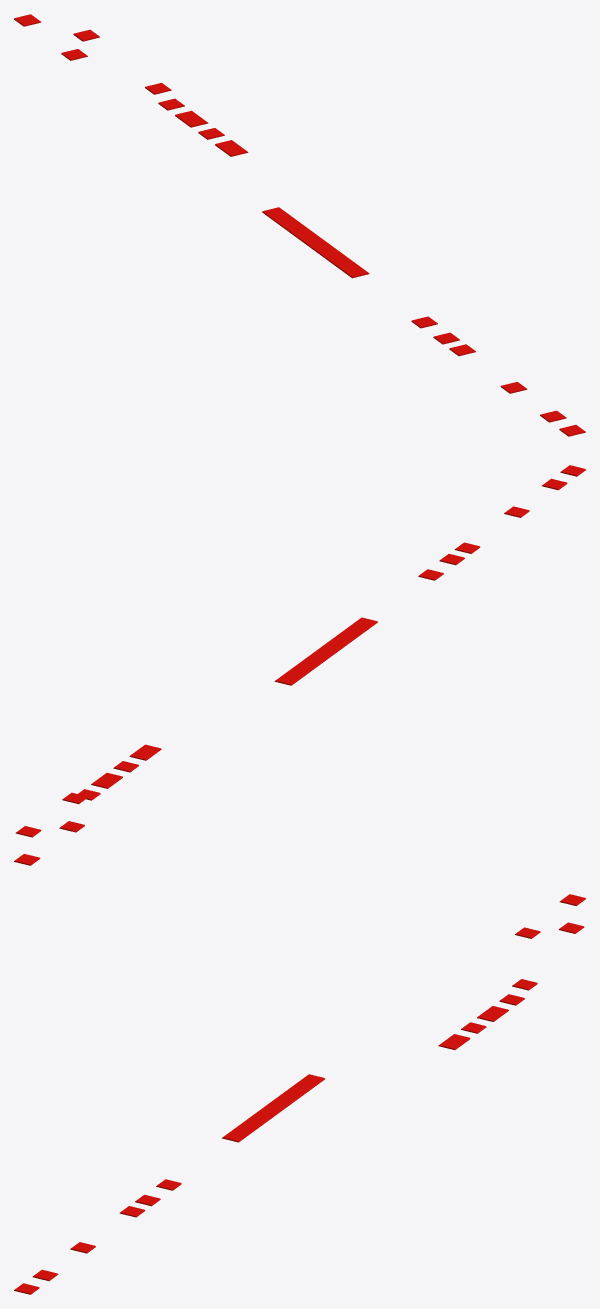
File: Jump_Floor_Red.fbx
The picture shows the model from 3 angles, top to bottom: view 1: azimuth 30°, elevation 25°; view 2: azimuth 150°, elevation 25°; view 3: azimuth 330°, elevation 25°; orthographic projection. The views are drawn at different scales.
Visible parts, largest first — view 1: Red_Join; view 2: Red_Join; view 3: Red_Join.
Part boxes in pixels (box(x1,y1,x2,y2)): Red_Join: box(14, 14, 585, 436); Red_Join: box(14, 465, 585, 865); Red_Join: box(14, 894, 585, 1294).
Size of the model in its own units: 1200 by 320 by 17000.
